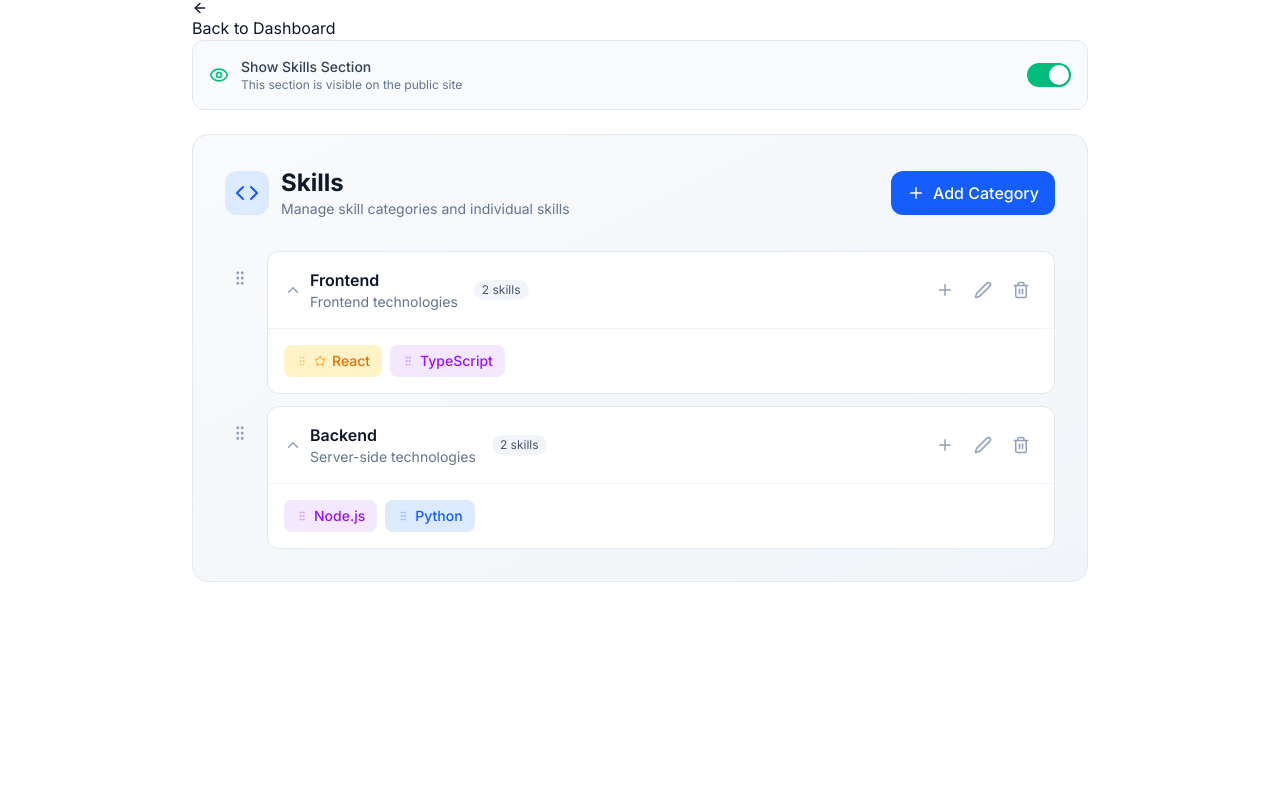
Test: SkillsEditor › edit category › opens edit modal when edit category button is clicked
The width and height of the screenshot is (1280, 800).
# Click edit button for Frontend category
Click the button named "Edit Frontend" at (983, 290), box [966, 273, 1000, 307]
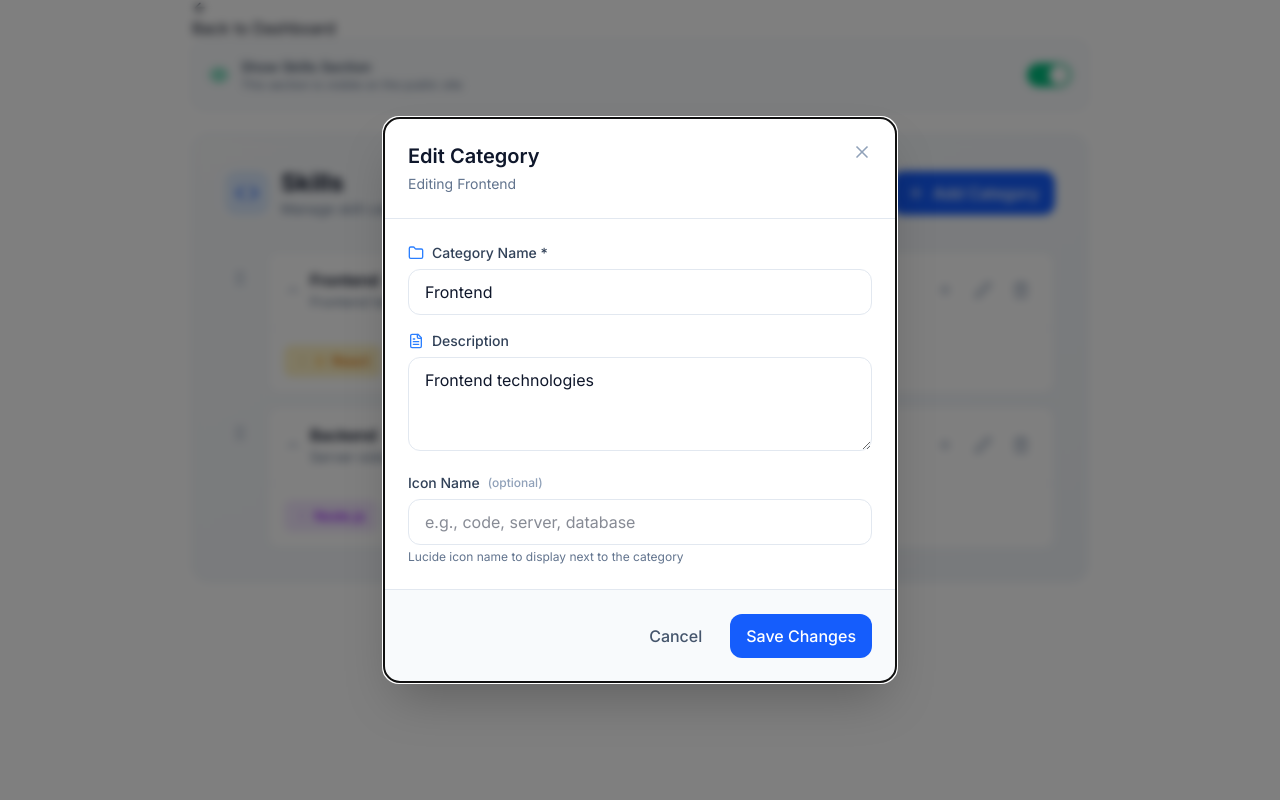
Expected: the heading "Edit Category" is shown, [408, 142, 540, 170]
